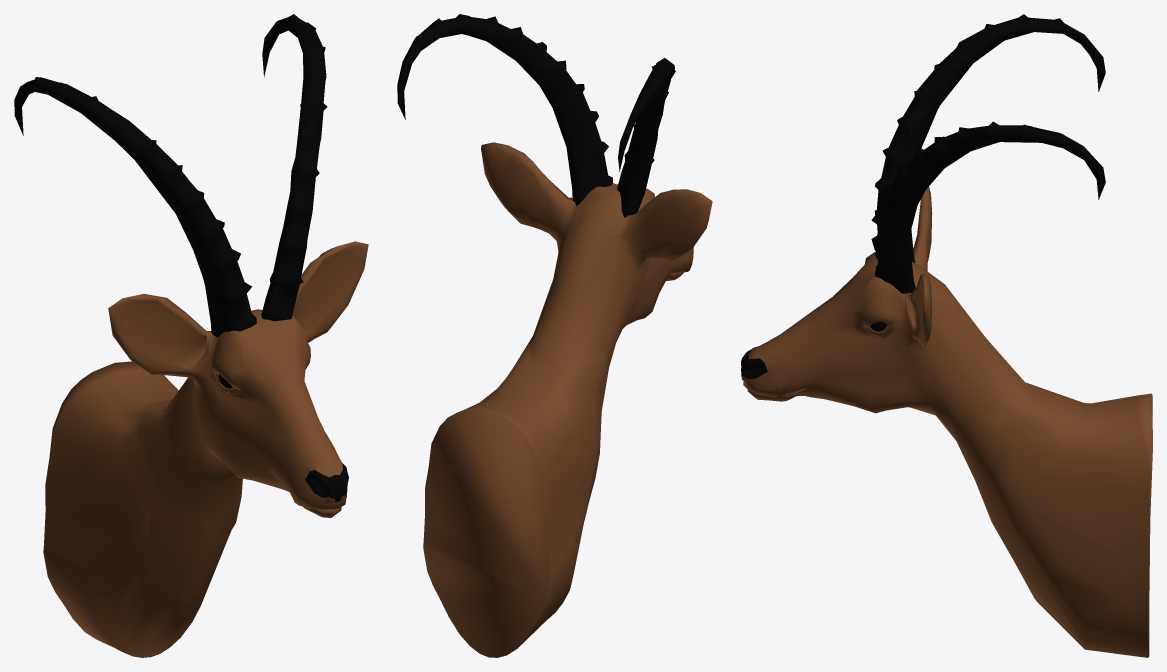
The model's file is geyik.fbx.
3 views of the same model, side by side, from view 1: azimuth 30°, elevation 25°; view 2: azimuth 150°, elevation 25°; view 3: azimuth 270°, elevation 25° (orthographic). The views are drawn at different scales.
Parts seen in each view (by area): view 1: geyik, boynuz; view 2: geyik, boynuz; view 3: geyik, boynuz.
Part boxes in pixels (x1,y1,x2,y2): geyik: (43, 241, 368, 657); boynuz: (14, 14, 327, 337); geyik: (423, 142, 712, 657); boynuz: (397, 14, 675, 217); geyik: (741, 187, 1152, 657); boynuz: (871, 14, 1105, 300).
Bounding box in the file's own units: 57.11 × 131 × 83.59.
